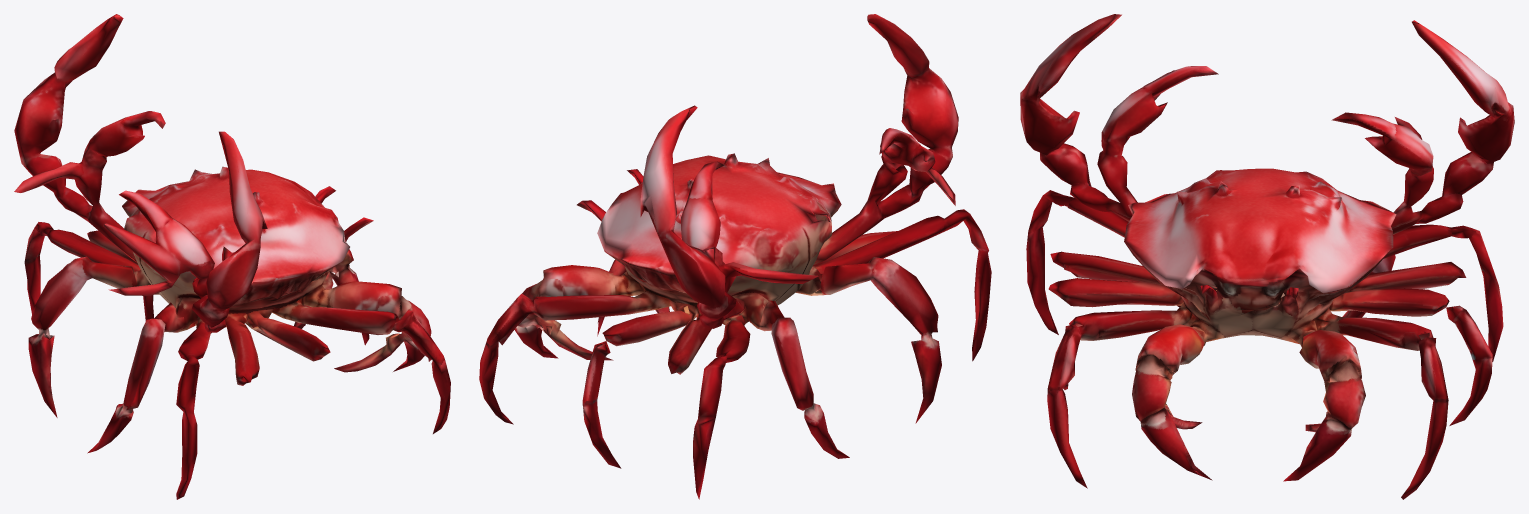
The model's file is crab.glb.
The picture shows the model from 3 angles, left to right: view 1: azimuth 30°, elevation 25°; view 2: azimuth 150°, elevation 25°; view 3: azimuth 270°, elevation 25°; orthographic projection. The views are drawn at different scales.
Visible parts, largest first — view 1: Creature; view 2: Creature; view 3: Creature.
Boxes of the visible parts, bbox=[...] form: Creature: bbox=[14, 14, 450, 499]; Creature: bbox=[479, 14, 991, 499]; Creature: bbox=[1020, 14, 1514, 499].
Size of the model in its own units: 1.35 by 1.36 by 1.6.
Materials: 1 (1 with a texture image).
